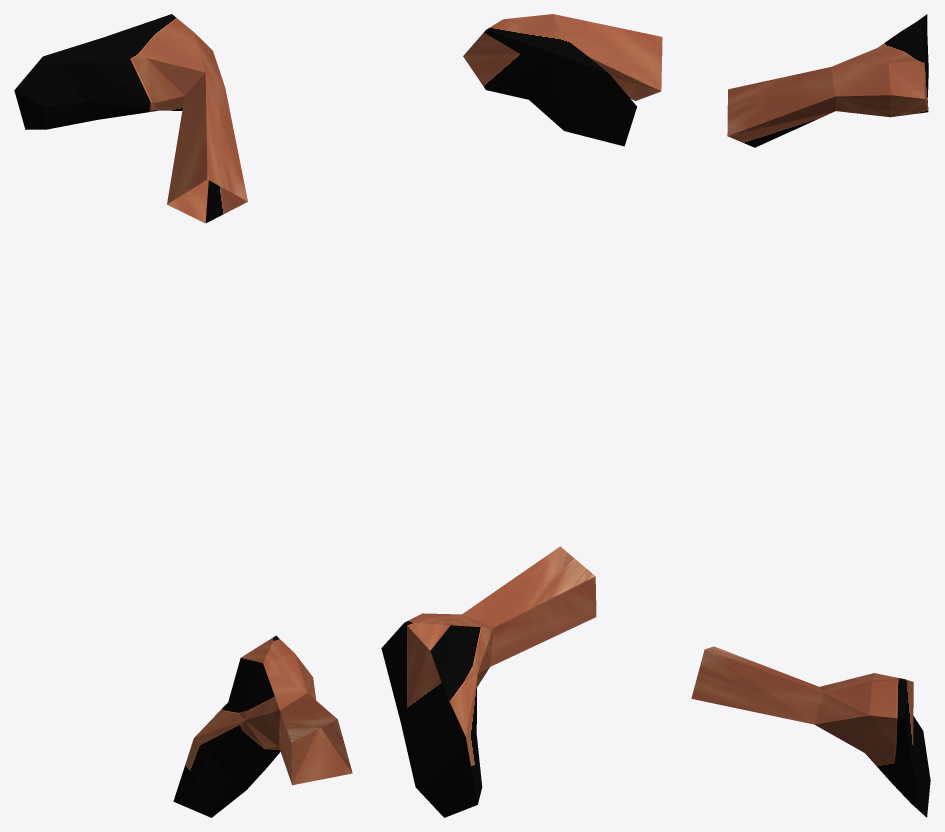
File: a_hj_f_sho_00.obj
The picture shows the model from 3 angles, left to right: view 1: azimuth 30°, elevation 25°; view 2: azimuth 150°, elevation 25°; view 3: azimuth 270°, elevation 25°; orthographic projection. The views are drawn at different scales.
Size of the model in its own units: 7.99 by 22.73 by 6.66.
